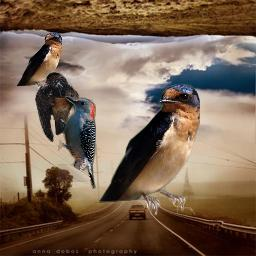Swallow: (98, 83, 200, 215), (35, 72, 86, 142), (16, 32, 62, 92)
Woodpecker: (58, 94, 96, 189)
